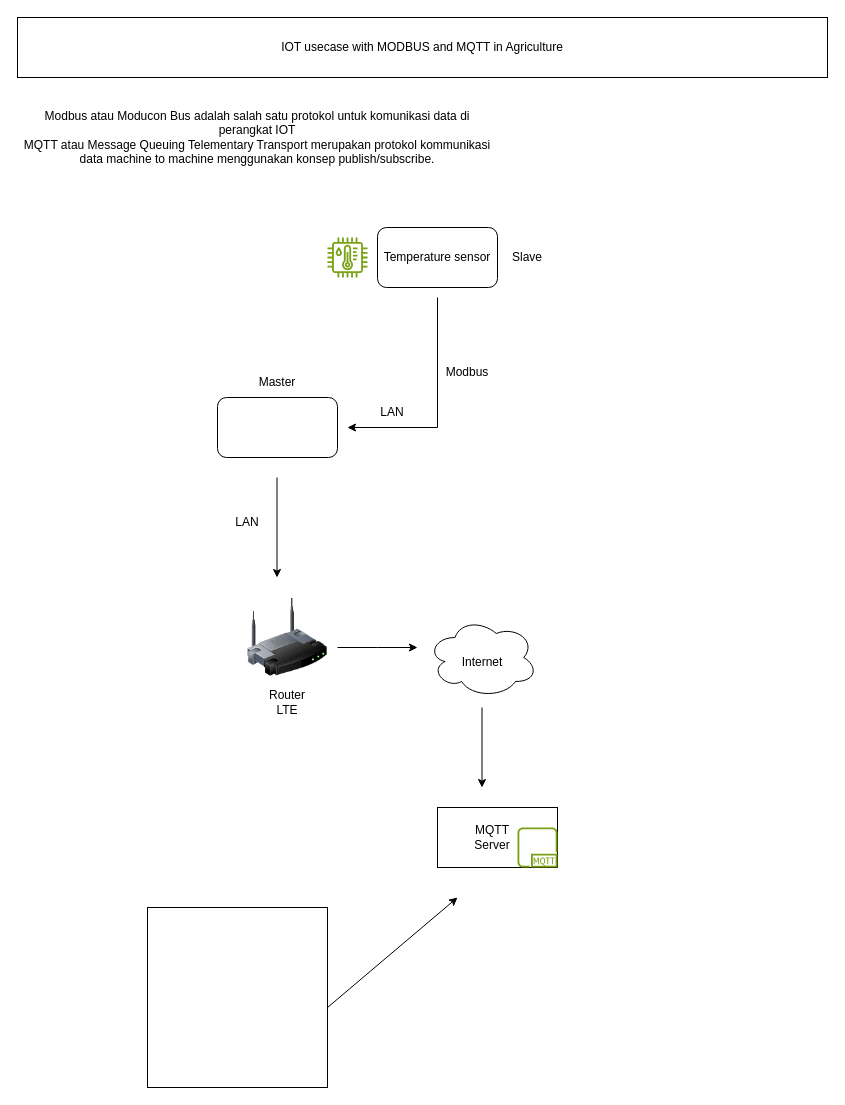
Image size: 845x1105. Some labels were removed from this diagram. Here are the shapes that lost their labels. From the top down, the centre of each, then its label:
At [277,427]: "PLC".
At [237,997]: "Thingsboard".
